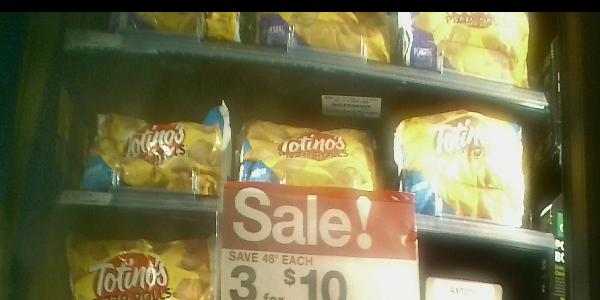icecream: (389, 93, 553, 229), (77, 102, 229, 200), (237, 115, 384, 215)
